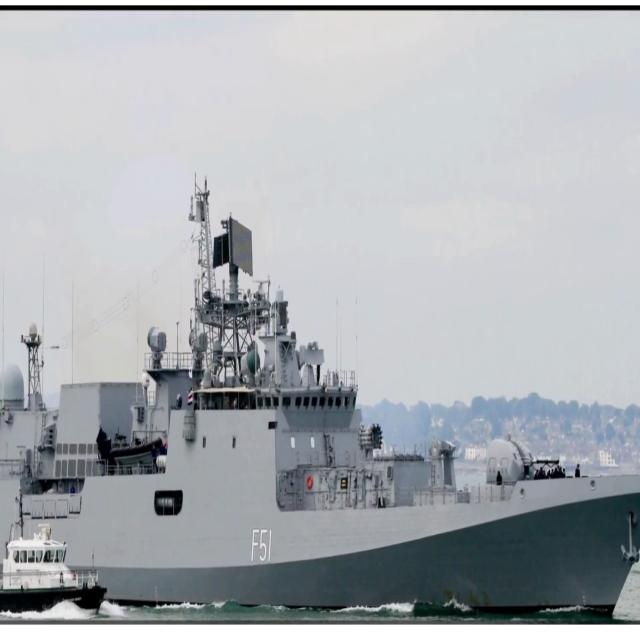OCR: (247, 520, 281, 573)
